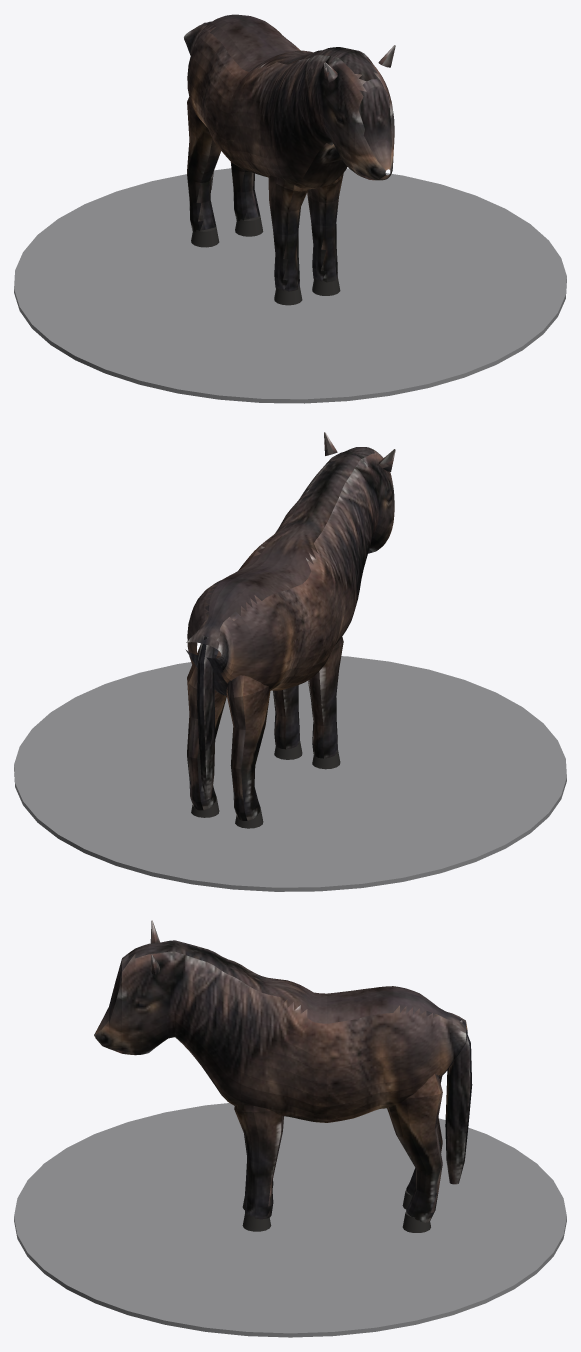
Rendered from pony.glb.
The picture shows the model from 3 angles, top to bottom: view 1: azimuth 30°, elevation 25°; view 2: azimuth 150°, elevation 25°; view 3: azimuth 270°, elevation 25°; orthographic projection.
Parts seen in each view (by area): view 1: PN_Suelo, PN_Cuerpo, PN_Pata_Del_-1, PN_Pata_Tras_-1, PN_Pata_Del_1, PN_Pata_Tras_1; view 2: PN_Suelo, PN_Cuerpo, PN_Pata_Tras_-1, PN_Pata_Del_-1, PN_Cola, PN_Pata_Tras_1, PN_Pata_Del_1; view 3: PN_Suelo, PN_Cuerpo, PN_Pata_Tras_1, PN_Pata_Del_1, PN_Cola.
Boxes of the visible parts, box(x1,y1,x2,y2) form: PN_Suelo: box(14, 168, 566, 403); PN_Cuerpo: box(184, 14, 394, 189); PN_Pata_Del_-1: box(268, 175, 307, 291); PN_Pata_Tras_-1: box(187, 97, 220, 231); PN_Pata_Del_1: box(307, 173, 343, 282); PN_Pata_Tras_1: box(230, 162, 260, 220); PN_Suelo: box(14, 656, 566, 891); PN_Cuerpo: box(185, 447, 394, 695); PN_Pata_Tras_-1: box(226, 675, 270, 820); PN_Pata_Del_-1: box(308, 637, 343, 758); PN_Cola: box(197, 636, 215, 799); PN_Pata_Tras_1: box(187, 644, 226, 810); PN_Pata_Del_1: box(273, 685, 299, 749); PN_Suelo: box(14, 1103, 566, 1337); PN_Cuerpo: box(94, 940, 467, 1122); PN_Pata_Tras_1: box(387, 1074, 442, 1222); PN_Pata_Del_1: box(234, 1105, 283, 1219); PN_Cola: box(445, 1018, 472, 1184).
Bounding box in the file's own units: 2.4 × 1.36 × 2.4.
Materials: 13 (8 with a texture image).
